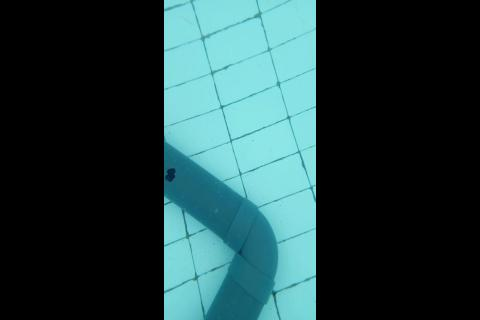kebocoran: (164, 166, 176, 183)
